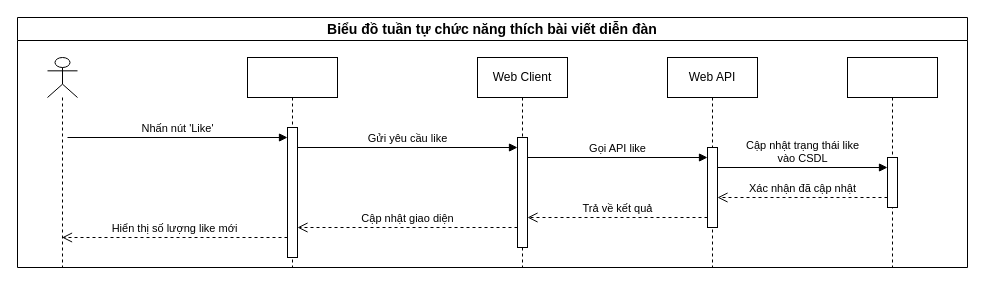
The diagram is 985 pixels wide and 285 high, and some of its shapes have lost their labels. Here are the shapes that lost their labels. From the top down, the centre of each, then its label:
(x=292, y=162): Giao diện
(x=892, y=162): MySQL
